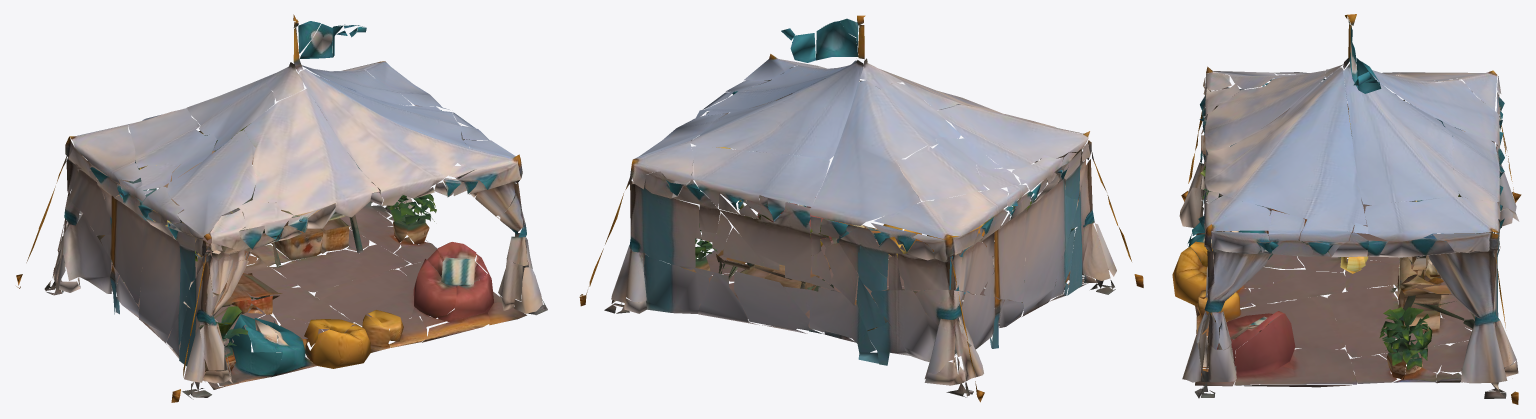
File: chilltent.glb
3 views of the same model, side by side, from view 1: azimuth 30°, elevation 25°; view 2: azimuth 150°, elevation 25°; view 3: azimuth 270°, elevation 25° (orthographic). The views are drawn at different scales.
Parts seen in each view (by area): view 1: tripo_node_4e96cf34-ffbd-4b06-b96a-c4b62b7c9371; view 2: tripo_node_4e96cf34-ffbd-4b06-b96a-c4b62b7c9371; view 3: tripo_node_4e96cf34-ffbd-4b06-b96a-c4b62b7c9371.
Part boxes in pixels (bbox=[...]): tripo_node_4e96cf34-ffbd-4b06-b96a-c4b62b7c9371: bbox=[16, 14, 547, 402]; tripo_node_4e96cf34-ffbd-4b06-b96a-c4b62b7c9371: bbox=[579, 15, 1143, 402]; tripo_node_4e96cf34-ffbd-4b06-b96a-c4b62b7c9371: bbox=[1172, 14, 1521, 404].
Bounding box in the file's own units: 3.66 × 2.49 × 2.65.
1 material, 1 textured.
